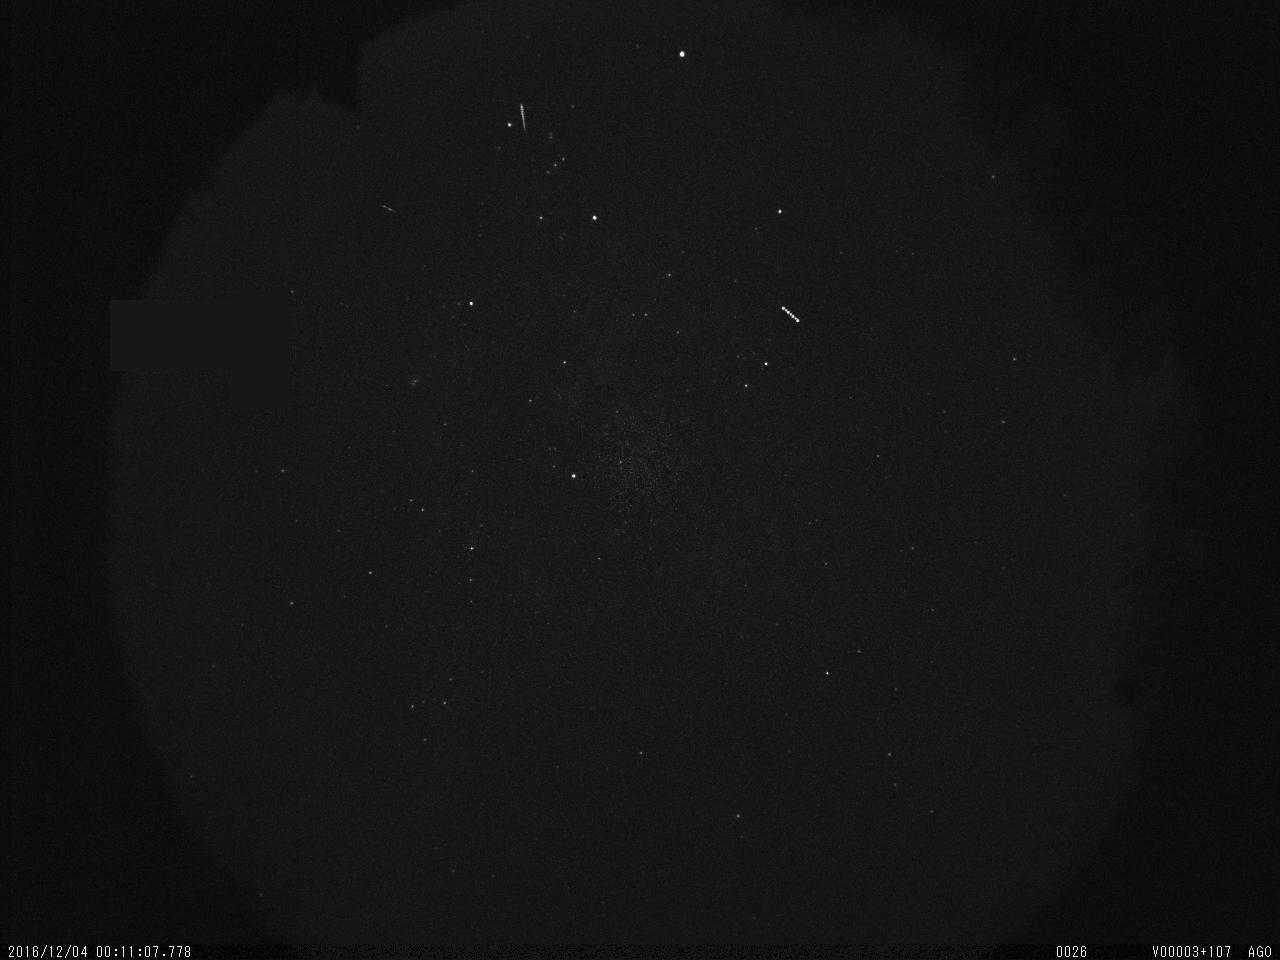meteor: (514, 98, 534, 143)
satelite: (774, 297, 807, 331)
